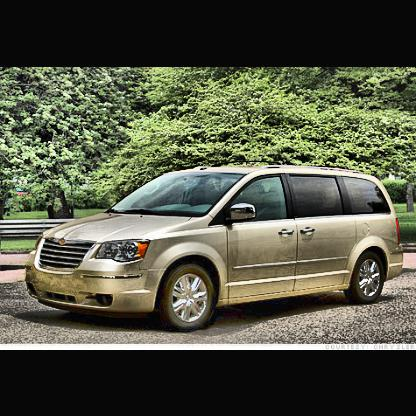Chrysler Town and Country Minivan 2012: (21, 160, 405, 330)
